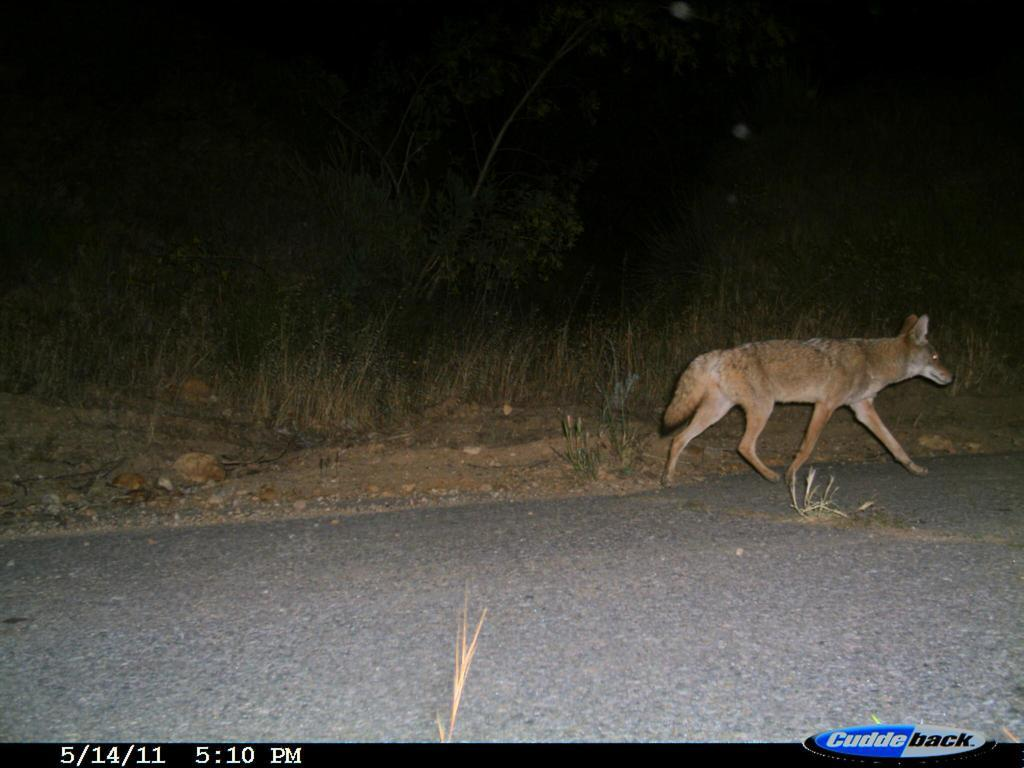coyote: (653, 305, 971, 492)
